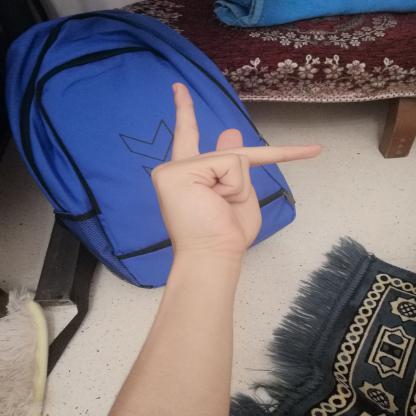DHAA: (139, 73, 337, 275)
